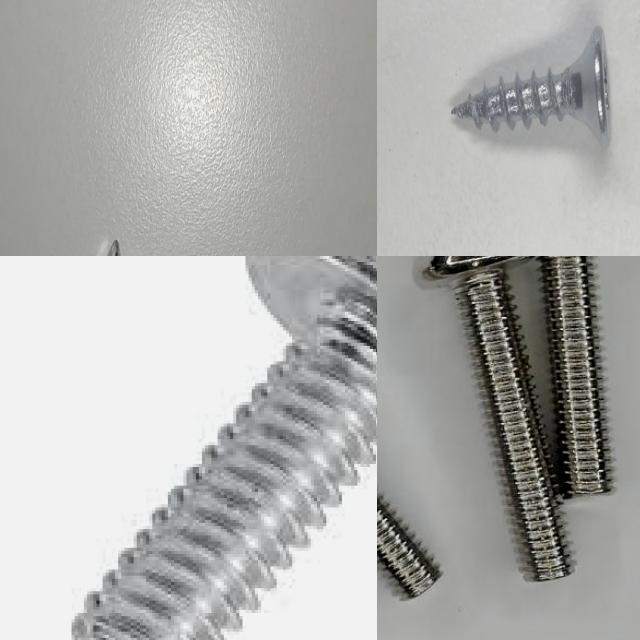Screw: (68, 256, 377, 640), (426, 256, 573, 581), (429, 256, 573, 581), (452, 25, 611, 147), (542, 256, 613, 497), (377, 493, 442, 598)
